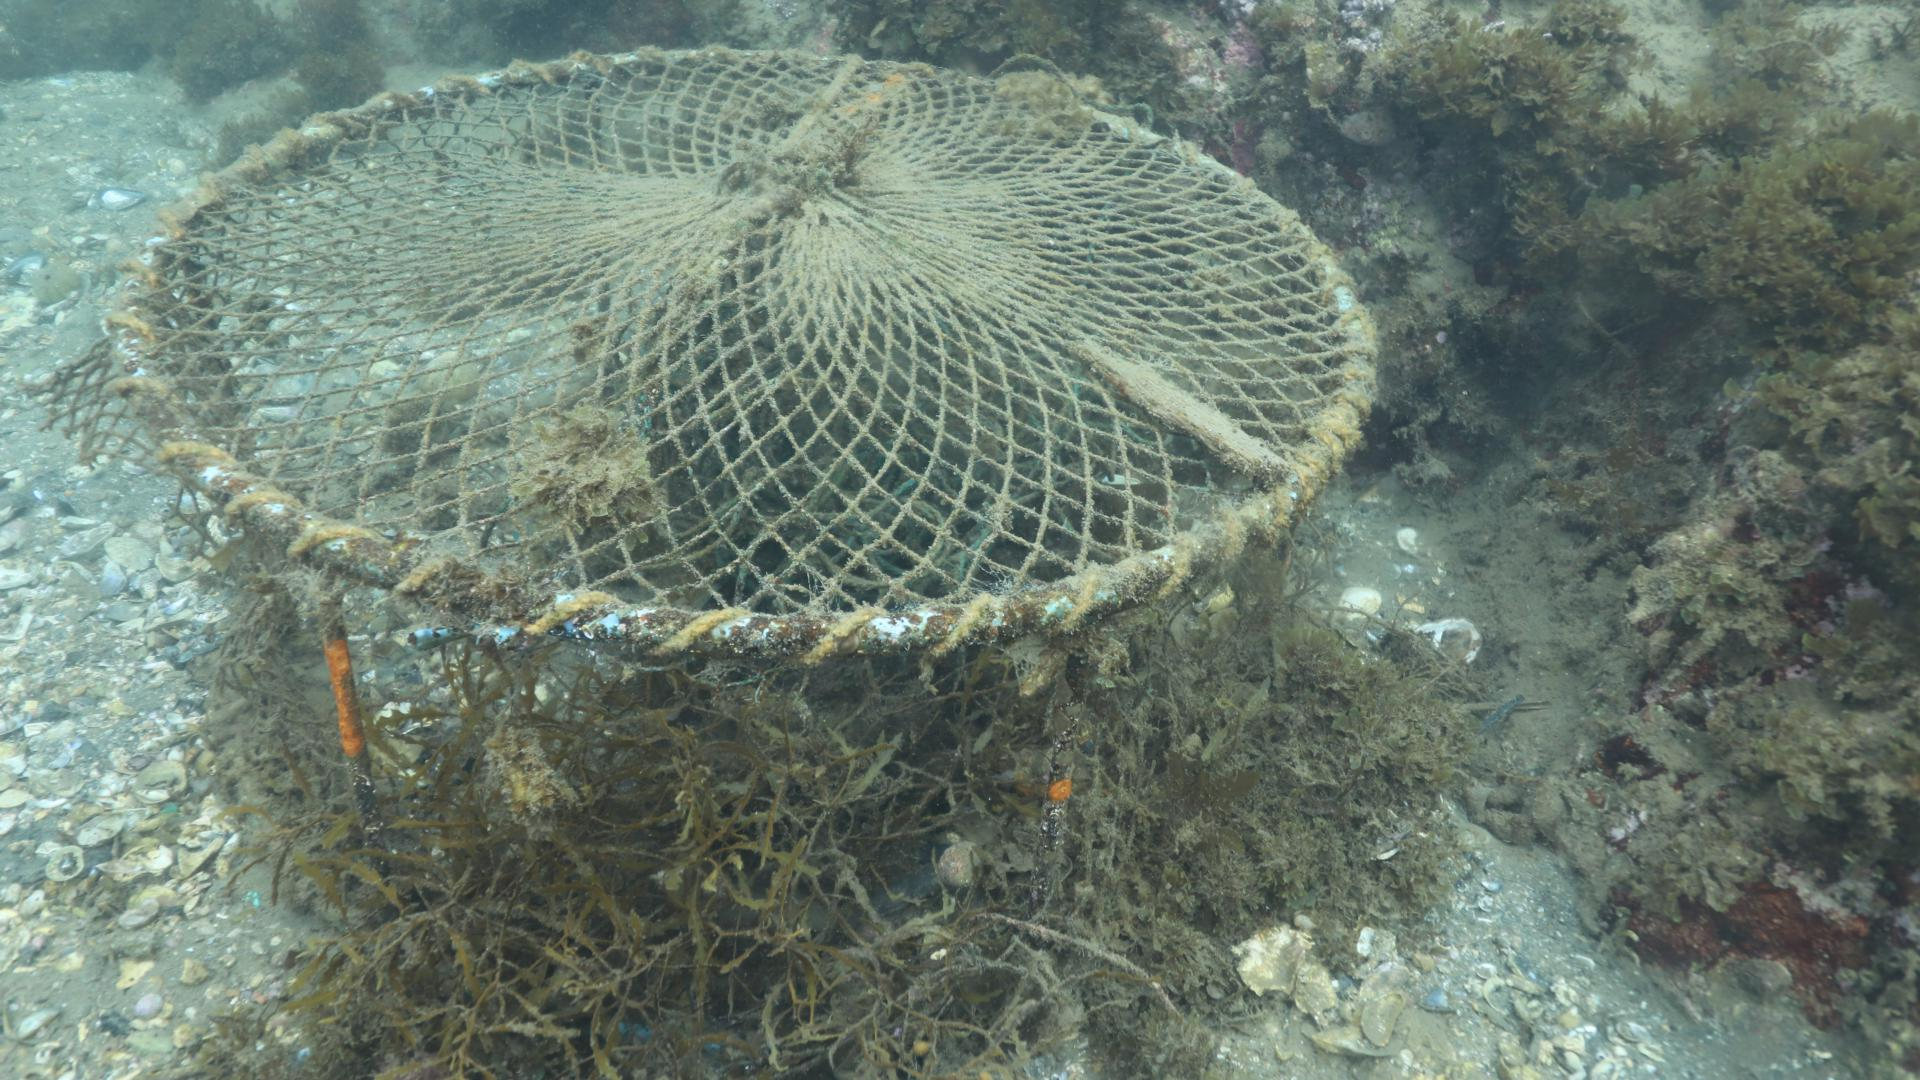circular fish trap: (107, 40, 1379, 1052)
